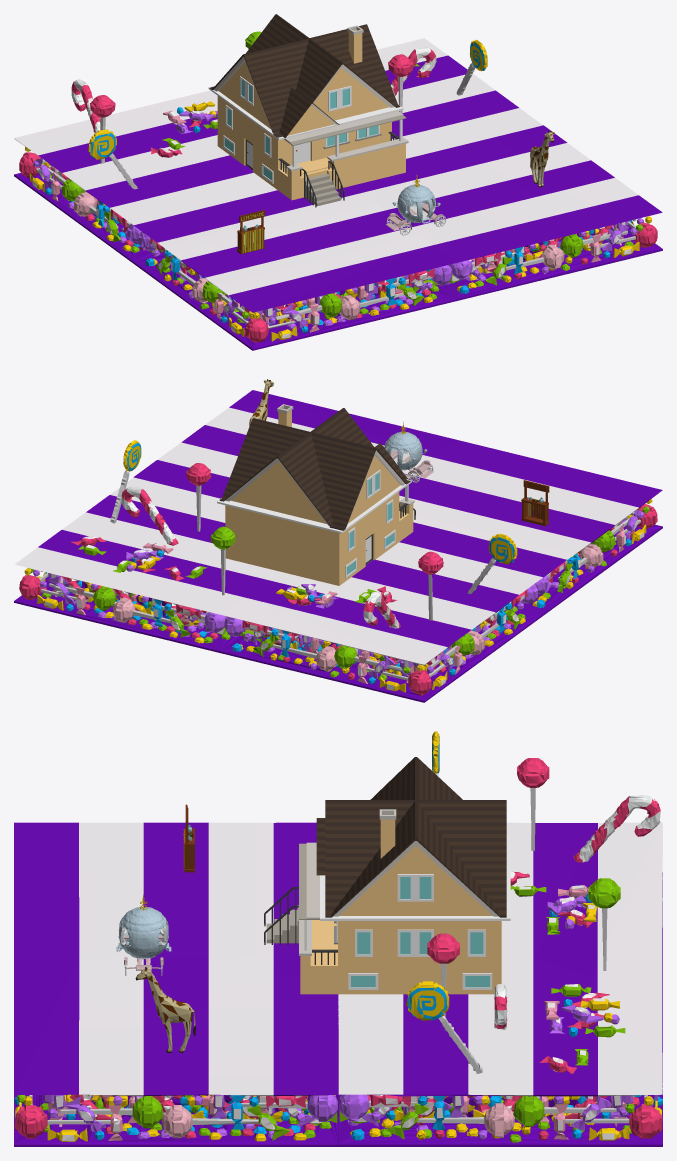
3 renders of one model, top to bottom at view 1: azimuth 30°, elevation 25°; view 2: azimuth 150°, elevation 25°; view 3: azimuth 270°, elevation 25°, orthographic. The views are drawn at different scales.
Parts seen in each view (by area): view 1: TERRAIN_CANDY, Cube.235, VEHICLES_FANTASY_CARRIAGE, OBJRANDOM_LEMONADE_STAND, ANIMAL_JIRAFA; view 2: TERRAIN_CANDY, Cube.235, VEHICLES_FANTASY_CARRIAGE, OBJRANDOM_LEMONADE_STAND; view 3: TERRAIN_CANDY, Cube.235, VEHICLES_FANTASY_CARRIAGE, ANIMAL_JIRAFA, OBJRANDOM_LEMONADE_STAND.
Boxes of the visible parts, x1,y1,x2,y2 form: TERRAIN_CANDY: [14, 31, 662, 350]; Cube.235: [208, 14, 408, 207]; VEHICLES_FANTASY_CARRIAGE: [386, 175, 445, 235]; OBJRANDOM_LEMONADE_STAND: [237, 210, 264, 253]; ANIMAL_JIRAFA: [530, 131, 554, 187]; TERRAIN_CANDY: [14, 390, 662, 702]; Cube.235: [217, 404, 415, 585]; VEHICLES_FANTASY_CARRIAGE: [384, 422, 433, 482]; OBJRANDOM_LEMONADE_STAND: [521, 480, 549, 526]; TERRAIN_CANDY: [14, 731, 662, 1146]; Cube.235: [264, 757, 510, 994]; VEHICLES_FANTASY_CARRIAGE: [116, 894, 171, 975]; ANIMAL_JIRAFA: [135, 967, 195, 1052]; OBJRANDOM_LEMONADE_STAND: [183, 804, 194, 872].
Size of the model in its own units: 4059 by 1600 by 4000.
32 materials, 2 textured.
